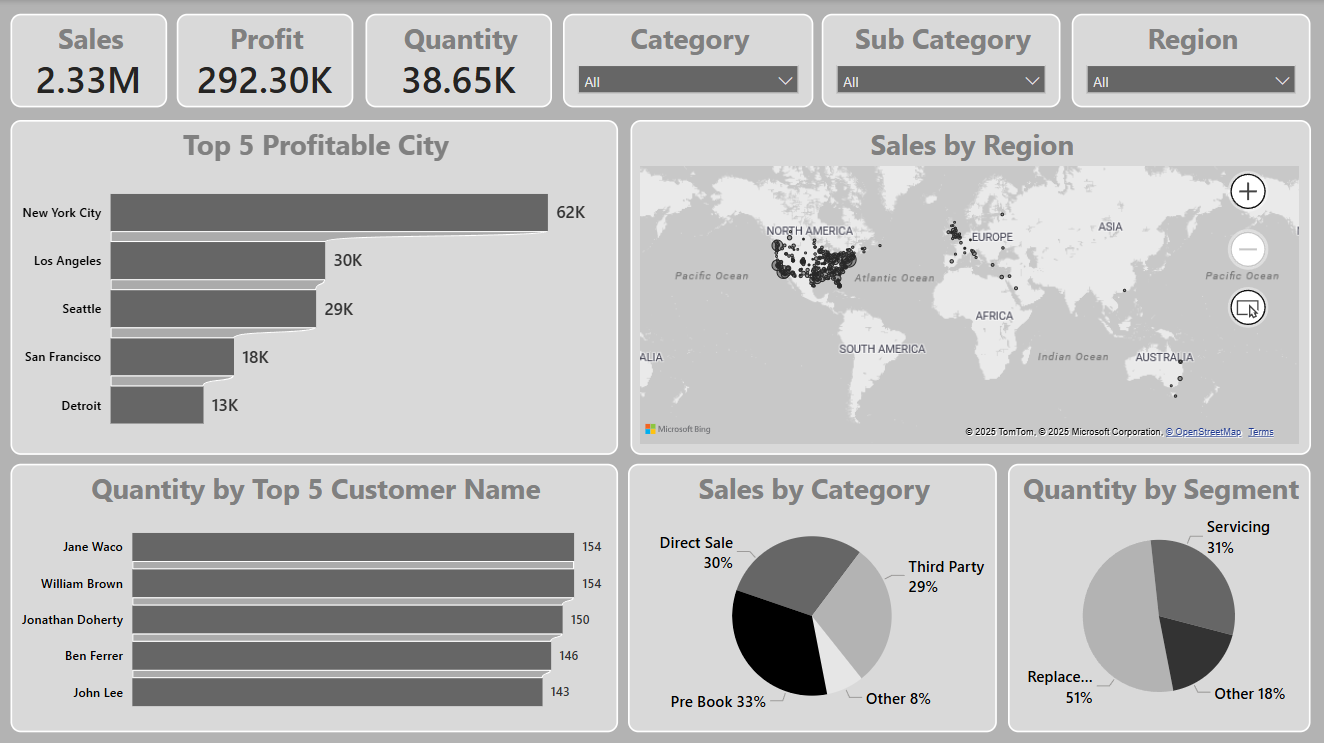

What the dashboard file says about the page in this screenshot:
{"tool":"powerbi","page":{"name":"Page 1","canvas":[1280,720],"ordinal":0},"visuals":[{"type":"card","title":"Sales","fields":{"Values":["Orders.Sales"]},"box":[12.5,13.8,151.6,90.2],"z":0},{"type":"card","title":"Profit","fields":{"Values":["Orders.Profit"]},"box":[172.9,13.8,170.4,90.2],"z":2},{"type":"map","title":"Sales by Region","fields":{"Size":["Orders.Sales"],"Category":["Orders.City"]},"box":[610.1,115.2,656.4,323.2],"z":3},{"type":"card","title":"Quantity","fields":{"Values":["Orders.Quantity"]},"box":[354.5,13.8,180.4,90.2],"z":4},{"type":"barChart","title":"Top 5 Profitable City","fields":{"Category":["Orders.City"],"Y":["Orders.Profit"]},"box":[12.5,115.2,586.3,323.2],"z":5},{"type":"barChart","title":"Quantity by Top 5  Customer Name","fields":{"Category":["Orders.Customer Name"],"Y":["Orders.Quantity"]},"box":[12.5,447.2,586.3,259.3],"z":6},{"type":"slicer","title":"Category","fields":{"Values":["Orders.Category"]},"box":[544.9,13.8,241.8,90.2],"z":8},{"type":"slicer","title":"Sub Category","fields":{"Values":["Orders.Sub-Category"]},"box":[795.5,13.8,230.5,90.2],"z":9},{"type":"slicer","title":"Region","fields":{"Values":["Orders.Region"]},"box":[1036,13.8,230.5,90.2],"z":10},{"type":"pieChart","title":"Quantity by Segment","fields":{"Category":["Orders.Segment"],"Y":["Orders.Quantity"]},"box":[974.8,447.6,292,259.4],"z":11},{"type":"pieChart","title":"Sales by Category","fields":{"Y":["Orders.Sales"],"Category":["Orders.Category"]},"box":[608,447.6,355.9,259.4],"z":12}]}

Visuals, with their boxes in screenshot pixels (x1, y1, x2, y2), scaled from the page's 1280x720 canvas onto the 1324x743 screenshot:
"Sales" card: 13 14 170 107
"Profit" card: 179 14 355 107
"Sales by Region" map: 631 119 1310 452
"Quantity" card: 367 14 553 107
"Top 5 Profitable City" barChart: 13 119 619 452
"Quantity by Top 5  Customer Name" barChart: 13 461 619 729
"Category" slicer: 564 14 814 107
"Sub Category" slicer: 823 14 1061 107
"Region" slicer: 1072 14 1310 107
"Quantity by Segment" pieChart: 1008 462 1310 730
"Sales by Category" pieChart: 629 462 997 730
